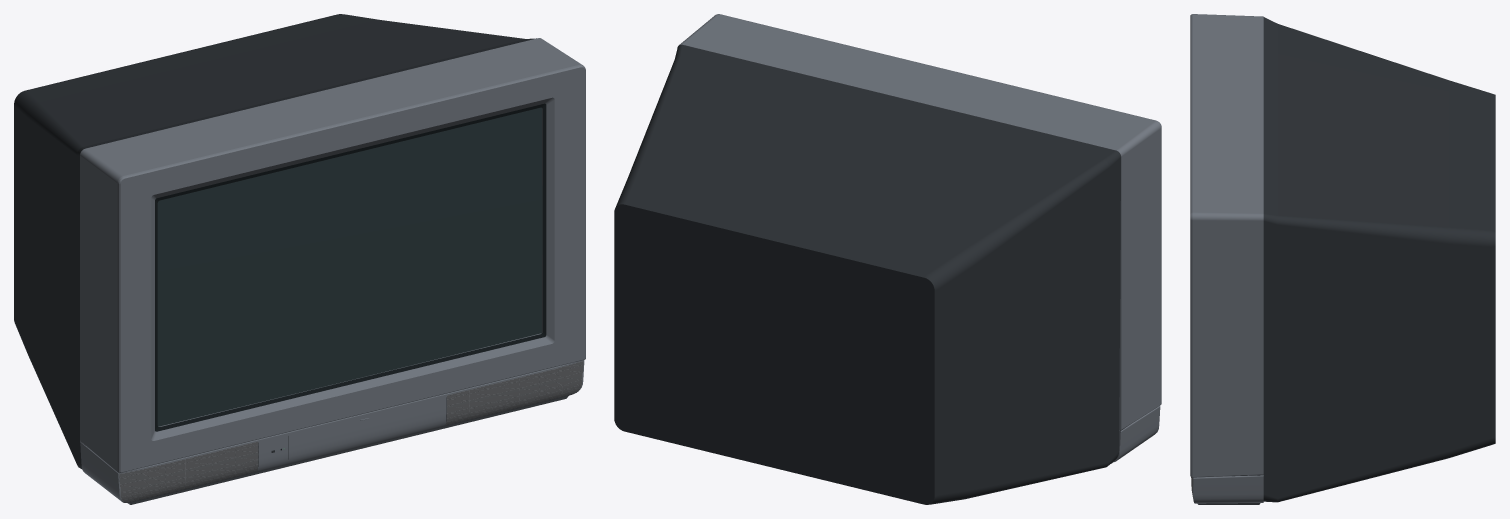
Rendered from crt-xr-26-wide.glb.
The picture shows the model from 3 angles, left to right: view 1: azimuth 30°, elevation 25°; view 2: azimuth 150°, elevation 25°; view 3: azimuth 270°, elevation 25°; orthographic projection. The views are drawn at different scales.
Parts seen in each view (by area): view 1: LivePictureExport, Graphite silver moulded plastic, Charcoal rear and recess, Speaker mesh — tiled texture, Screen gasket and infrared window; view 2: Charcoal rear and recess, Graphite silver moulded plastic; view 3: Charcoal rear and recess, Graphite silver moulded plastic.
Part boxes in pixels (box(x1,y1,x2,y2)): LivePictureExport: box(157, 107, 542, 426); Graphite silver moulded plastic: box(80, 38, 585, 504); Charcoal rear and recess: box(14, 14, 536, 469); Speaker mesh — tiled texture: box(119, 361, 583, 502); Screen gasket and infrared window: box(155, 103, 546, 450); Charcoal rear and recess: box(614, 45, 1127, 504); Graphite silver moulded plastic: box(677, 14, 1161, 463); Charcoal rear and recess: box(1232, 17, 1495, 502); Graphite silver moulded plastic: box(1190, 14, 1263, 504).
Size of the model in its own units: 0.7 by 0.48 by 0.4451.
6 materials, 1 textured.
